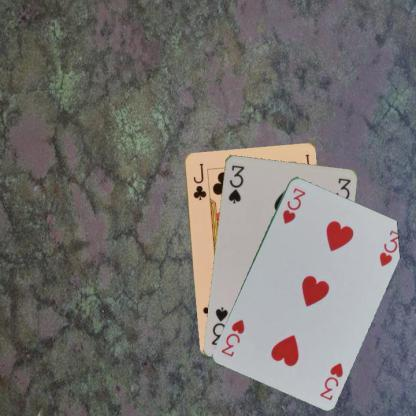3h: (316, 359, 344, 401), (280, 185, 307, 225)
3s: (226, 162, 246, 204)
Jc: (190, 160, 208, 202)
